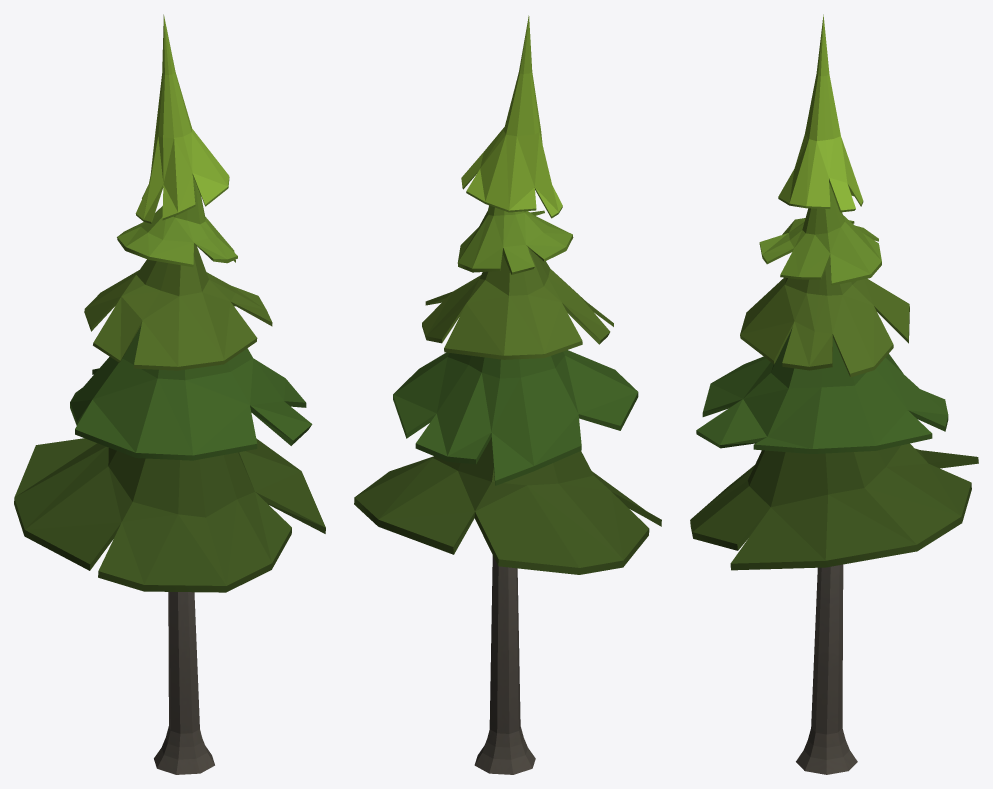
The model's file is ZLP_Plant_K_7.FBX.
3 views of the same model, side by side, from view 1: azimuth 30°, elevation 25°; view 2: azimuth 150°, elevation 25°; view 3: azimuth 270°, elevation 25° (orthographic). The views are drawn at different scales.
Parts seen in each view (by area): view 1: ZLP_Plant_K_7; view 2: ZLP_Plant_K_7; view 3: ZLP_Plant_K_7.
Boxes of the visible parts, x1,y1,x2,y2 form: ZLP_Plant_K_7: [14, 14, 325, 774]; ZLP_Plant_K_7: [354, 15, 661, 774]; ZLP_Plant_K_7: [690, 14, 978, 774].
Bounding box in the file's own units: 219 × 616 × 219.
